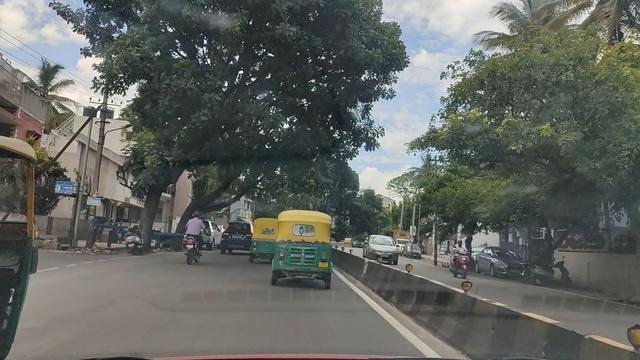LMV: (279, 210, 336, 280), (180, 208, 208, 265), (230, 213, 257, 265), (259, 216, 280, 265)
